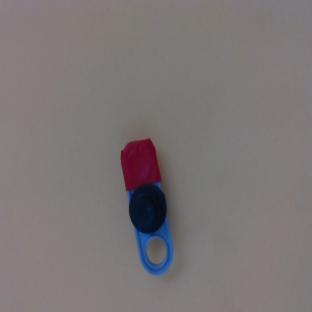part_1_good: (114, 137, 181, 277)
